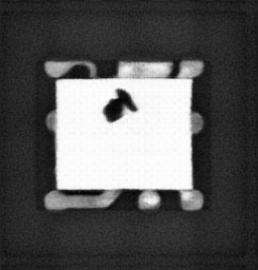DIE_INK: (101, 88, 138, 124)
